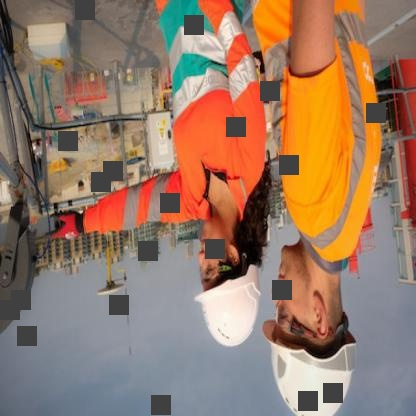vest: (251, 1, 396, 269), (141, 1, 272, 232)
white: (190, 247, 266, 354)
